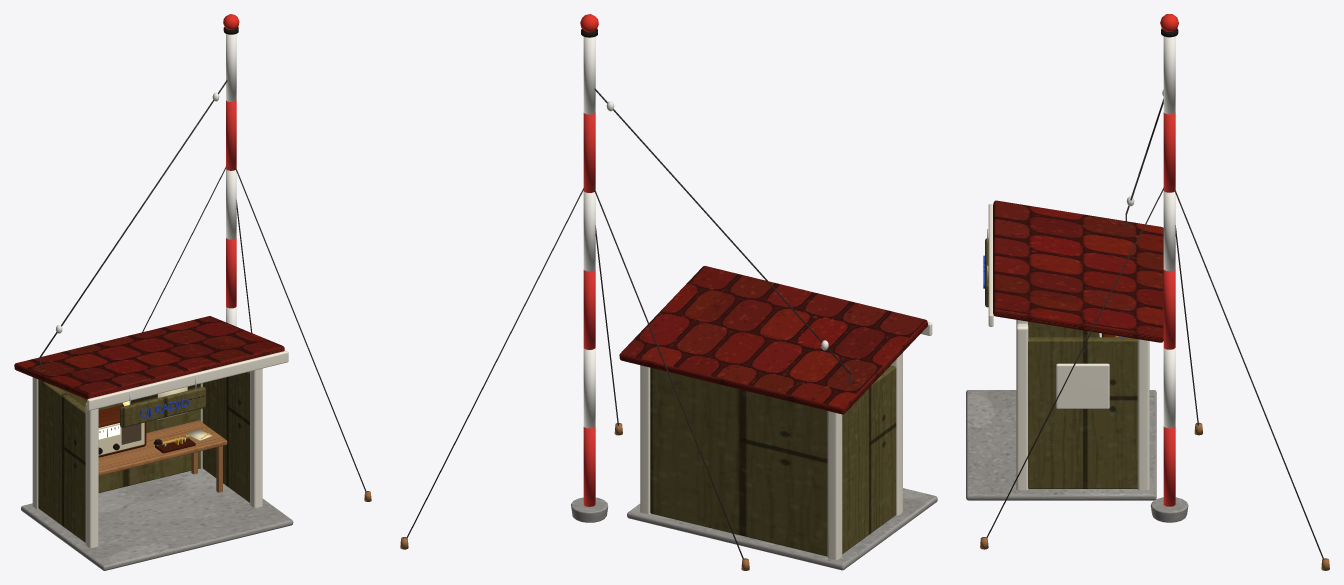
The model's file is radioshack.glb.
3 views of the same model, side by side, from view 1: azimuth 30°, elevation 25°; view 2: azimuth 150°, elevation 25°; view 3: azimuth 270°, elevation 25° (orthographic). The views are drawn at different scales.
Parts seen in each view (by area): view 1: rs_pad, rs_roof, rs_side, rs_side.001, rs_back, rs_desk, rs_fascia, rs_corner, rs_corner.002, rs_sign, rs_corner.001, rs_mast.002 (+7 smaller); view 2: rs_roof, rs_back, rs_side, rs_pad, rs_corner.001, rs_corner.003, rs_corner, rs_mast.001, rs_mast, rs_mast.002, rs_mast.003, rs_mast.004 (+5 smaller); view 3: rs_roof, rs_side.001, rs_pad, rs_wframe, rs_corner.002, rs_corner.003, rs_mast.001, rs_mast, rs_mast.002, rs_mast.003, rs_mast.004, rs_mast.005 (+5 smaller).
Boxes of the visible parts, x1=… form: rs_pad: x1=21, y1=468, x2=293, y2=570; rs_roof: x1=14, y1=316, x2=284, y2=399; rs_side: x1=38, y1=379, x2=85, y2=542; rs_side.001: x1=202, y1=371, x2=249, y2=502; rs_back: x1=59, y1=383, x2=200, y2=492; rs_desk: x1=98, y1=420, x2=227, y2=475; rs_fascia: x1=87, y1=350, x2=288, y2=410; rs_corner: x1=85, y1=403, x2=98, y2=547; rs_corner.002: x1=250, y1=368, x2=262, y2=507; rs_sign: x1=120, y1=387, x2=205, y2=427; rs_corner.001: x1=32, y1=377, x2=38, y2=509; rs_mast.002: x1=226, y1=238, x2=236, y2=308; rs_roof: x1=619, y1=266, x2=927, y2=414; rs_back: x1=650, y1=367, x2=827, y2=556; rs_side: x1=842, y1=365, x2=896, y2=553; rs_pad: x1=627, y1=488, x2=937, y2=570; rs_corner.001: x1=827, y1=411, x2=842, y2=559; rs_corner.003: x1=640, y1=365, x2=650, y2=514; rs_corner: x1=891, y1=353, x2=902, y2=515; rs_mast.001: x1=583, y1=348, x2=595, y2=428; rs_mast: x1=583, y1=426, x2=595, y2=506; rs_mast.002: x1=583, y1=269, x2=595, y2=349; rs_mast.003: x1=583, y1=191, x2=595, y2=271; rs_mast.004: x1=583, y1=112, x2=595, y2=192; rs_roof: x1=993, y1=200, x2=1163, y2=342; rs_side.001: x1=1028, y1=337, x2=1137, y2=488; rs_pad: x1=966, y1=390, x2=1156, y2=500; rs_wframe: x1=1056, y1=363, x2=1109, y2=408; rs_corner.002: x1=1016, y1=323, x2=1028, y2=490; rs_corner.003: x1=1137, y1=339, x2=1149, y2=490; rs_mast.001: x1=1163, y1=348, x2=1175, y2=428; rs_mast: x1=1163, y1=426, x2=1175, y2=506; rs_mast.002: x1=1163, y1=269, x2=1175, y2=349; rs_mast.003: x1=1163, y1=191, x2=1175, y2=271; rs_mast.004: x1=1163, y1=112, x2=1175, y2=192; rs_mast.005: x1=1163, y1=36, x2=1175, y2=114.
Size of the model in its own units: 4.85 by 6.4 by 4.2.
Materials: 26 (6 with a texture image).
